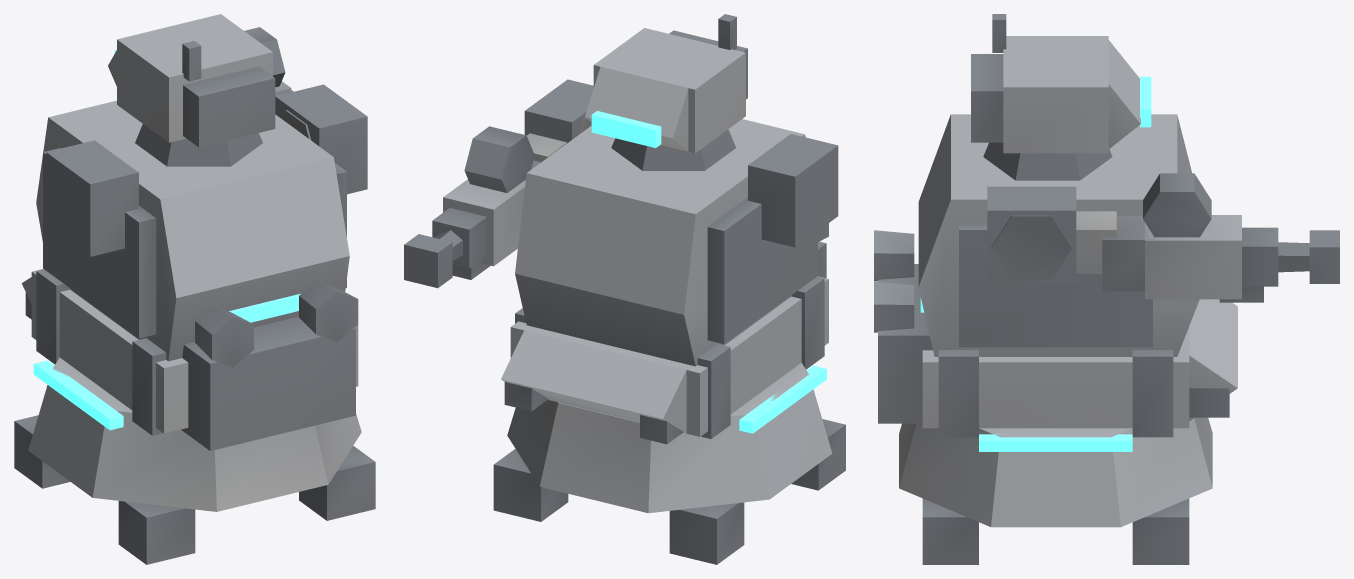
File: guard.glb
3 views of the same model, side by side, from view 1: azimuth 30°, elevation 25°; view 2: azimuth 150°, elevation 25°; view 3: azimuth 270°, elevation 25° (orthographic). The views are drawn at different scales.
Visible parts, largest first — view 1: guard_hull, weapon_arm; view 2: guard_hull, weapon_arm; view 3: guard_hull, weapon_arm.
Part boxes in pixels (left/top/right/bottom): guard_hull: left=14, top=14, right=375, bottom=564; weapon_arm: left=244, top=27, right=311, bottom=140; guard_hull: left=493, top=14, right=845, bottom=564; weapon_arm: left=404, top=117, right=591, bottom=288; guard_hull: left=874, top=14, right=1237, bottom=564; weapon_arm: left=991, top=173, right=1339, bottom=302.
Size of the model in its own units: 0.805 by 1.3 by 1.15.
